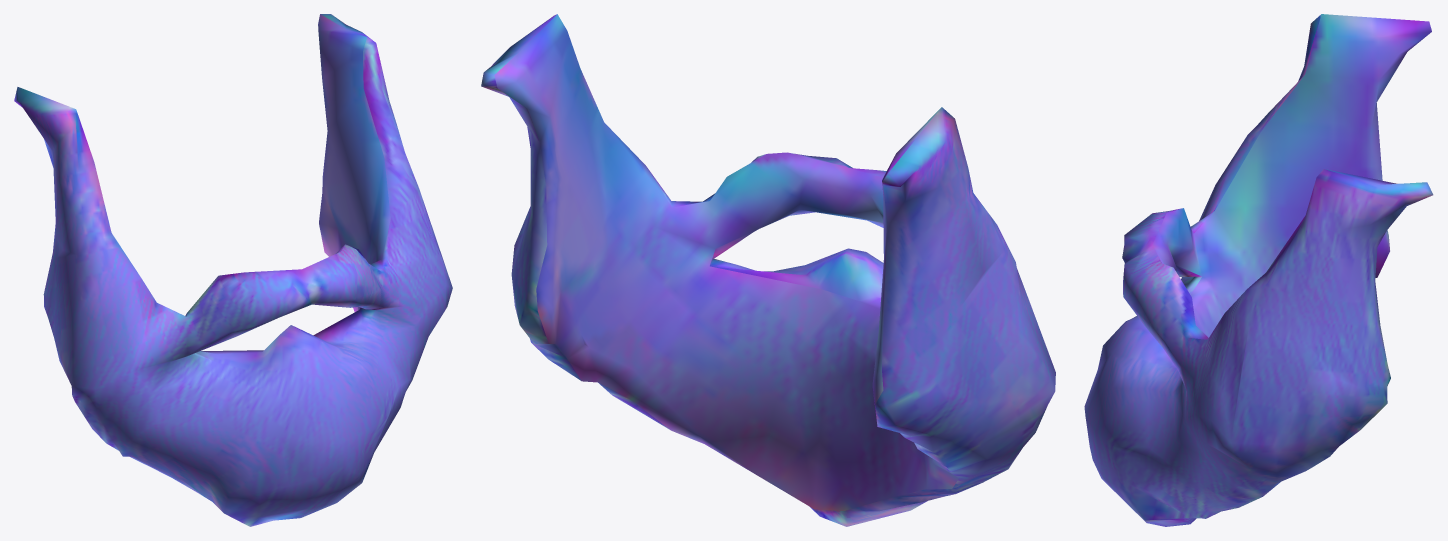
Rendered from [NEW] Santa.glb.
3 renders of one model, left to right at view 1: azimuth 30°, elevation 25°; view 2: azimuth 150°, elevation 25°; view 3: azimuth 270°, elevation 25°, orthographic. The views are drawn at different scales.
Visible parts, largest first — view 1: Hair; view 2: Hair; view 3: Hair.
Boxes of the visible parts, box(x1,y1,x2,y2) form: Hair: box(14, 14, 452, 526); Hair: box(481, 14, 1055, 526); Hair: box(1084, 14, 1433, 526).
Bounding box in the file's own units: 0.1851 × 0.1855 × 0.135.
1 material, 1 textured.
